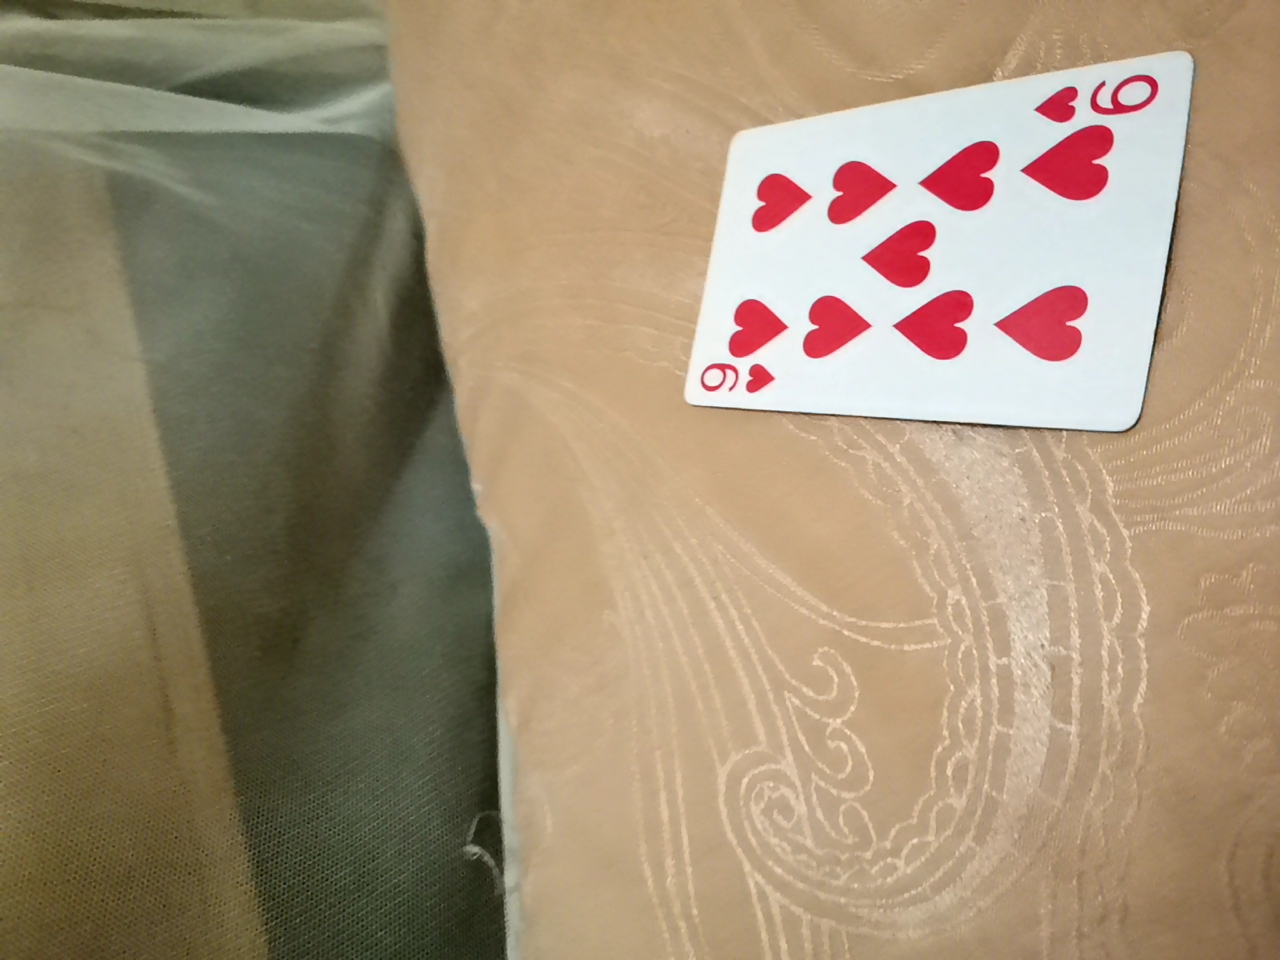hx 9: (659, 64, 1138, 423)
